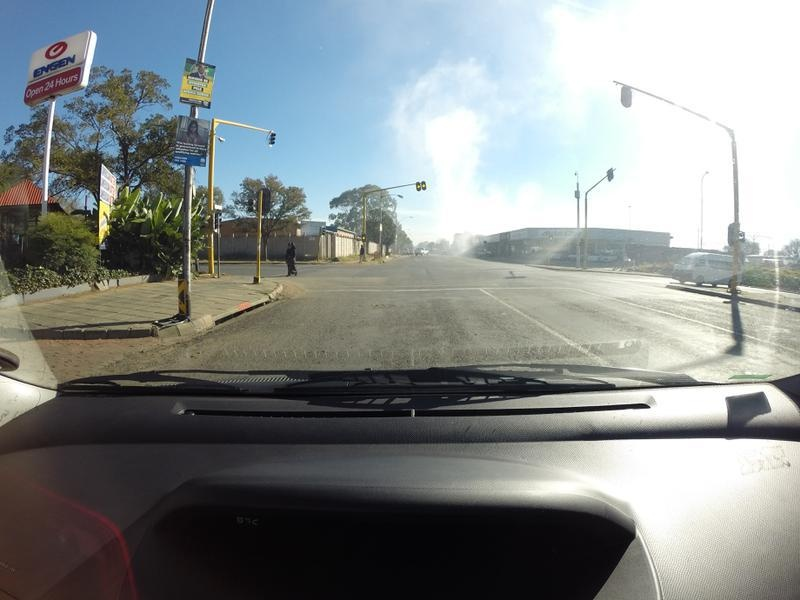pothole: (374, 300, 396, 309)
